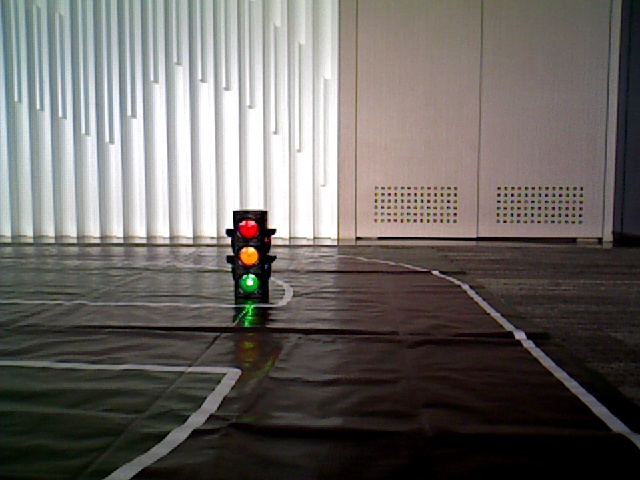green: (236, 215, 266, 294)
